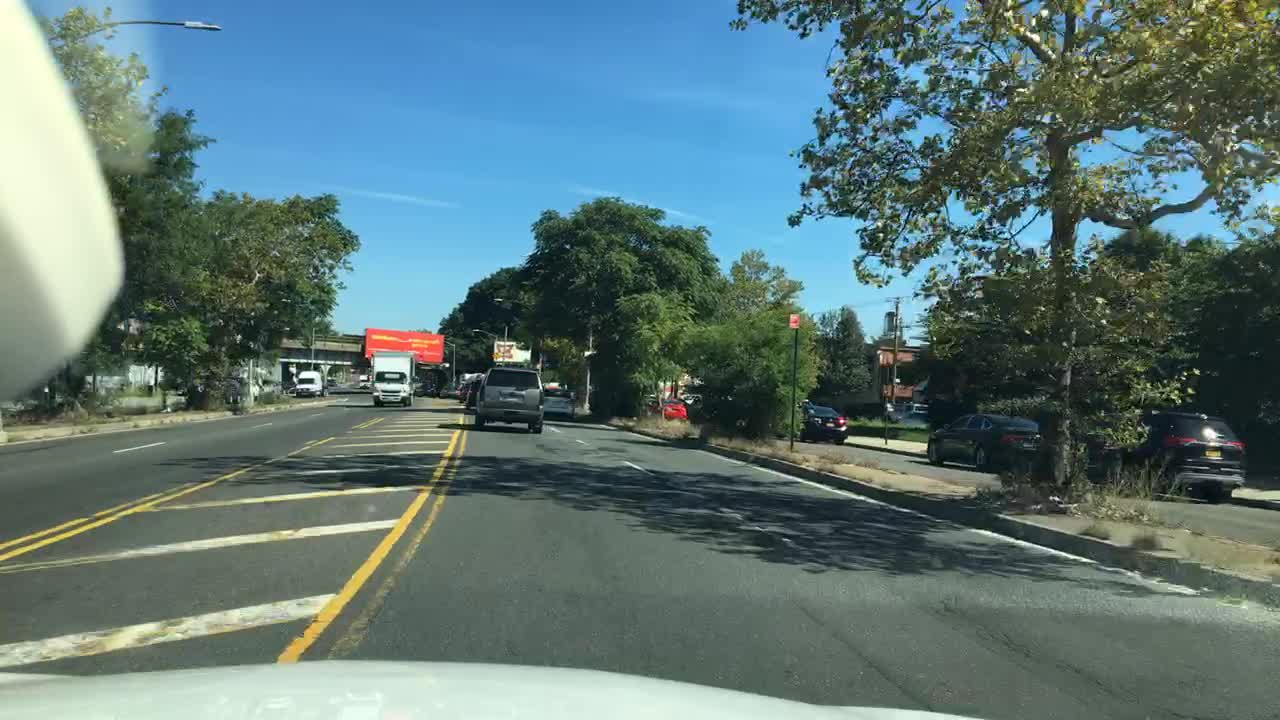car: (1072, 404, 1247, 504), (923, 412, 1039, 472), (472, 366, 546, 435), (742, 398, 814, 441), (798, 405, 849, 445), (183, 381, 227, 409), (542, 388, 576, 420), (685, 397, 718, 424), (659, 398, 689, 420), (223, 378, 242, 406), (462, 379, 479, 410), (894, 409, 930, 423), (414, 382, 441, 397), (438, 382, 460, 399), (453, 382, 470, 404), (261, 378, 282, 395), (880, 401, 896, 422), (684, 394, 704, 408), (646, 399, 662, 414), (281, 380, 295, 394), (643, 393, 655, 406), (175, 385, 188, 396), (327, 378, 338, 387)
traffic sign: (788, 312, 799, 327)
truck: (369, 350, 418, 408), (292, 369, 329, 397), (358, 374, 370, 389)
